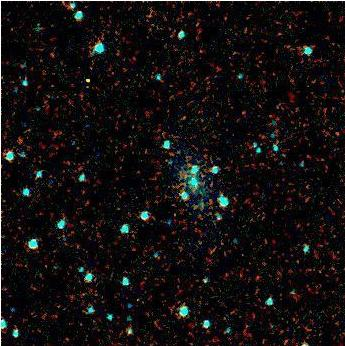star: (72, 68, 102, 98)
